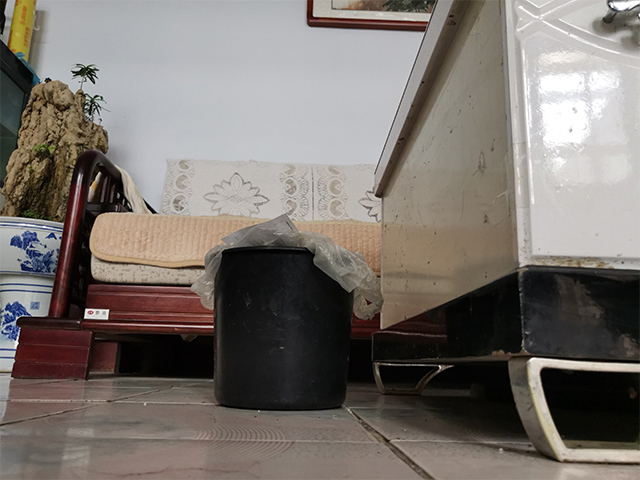sofa: (8, 149, 382, 381)
table: (369, 1, 640, 467)
trashcan: (209, 244, 355, 412)
